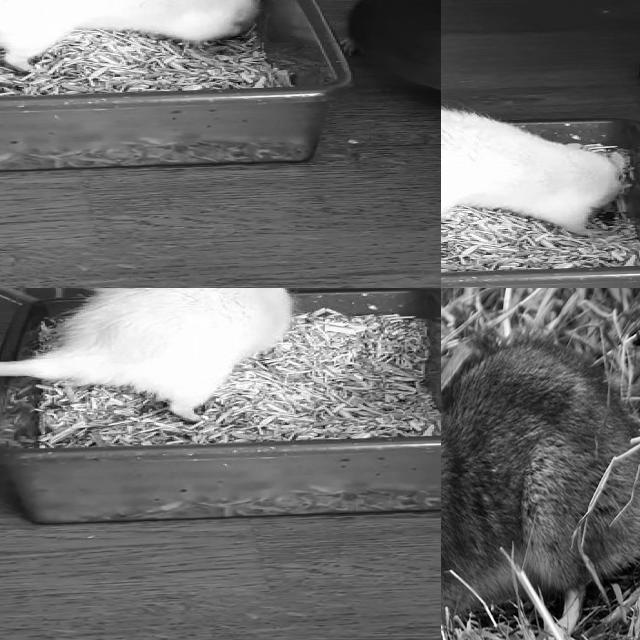rat: (441, 338, 640, 611), (39, 288, 298, 422), (441, 106, 625, 244), (0, 0, 260, 73), (348, 0, 441, 105)
